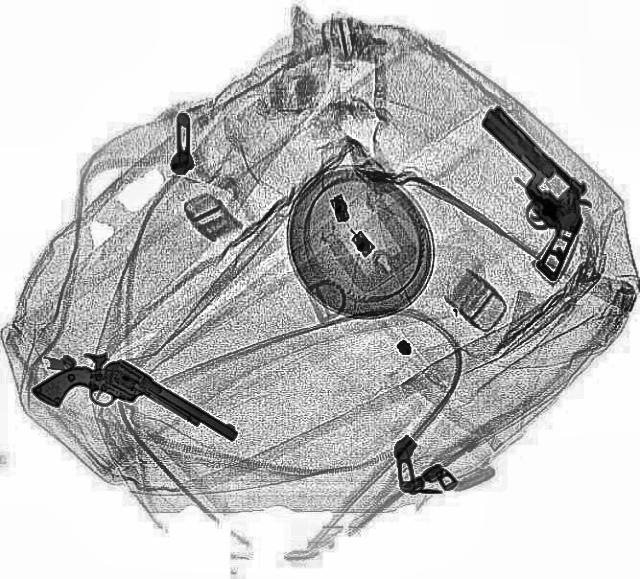Gun: (423, 101, 629, 280), (28, 334, 240, 490)
